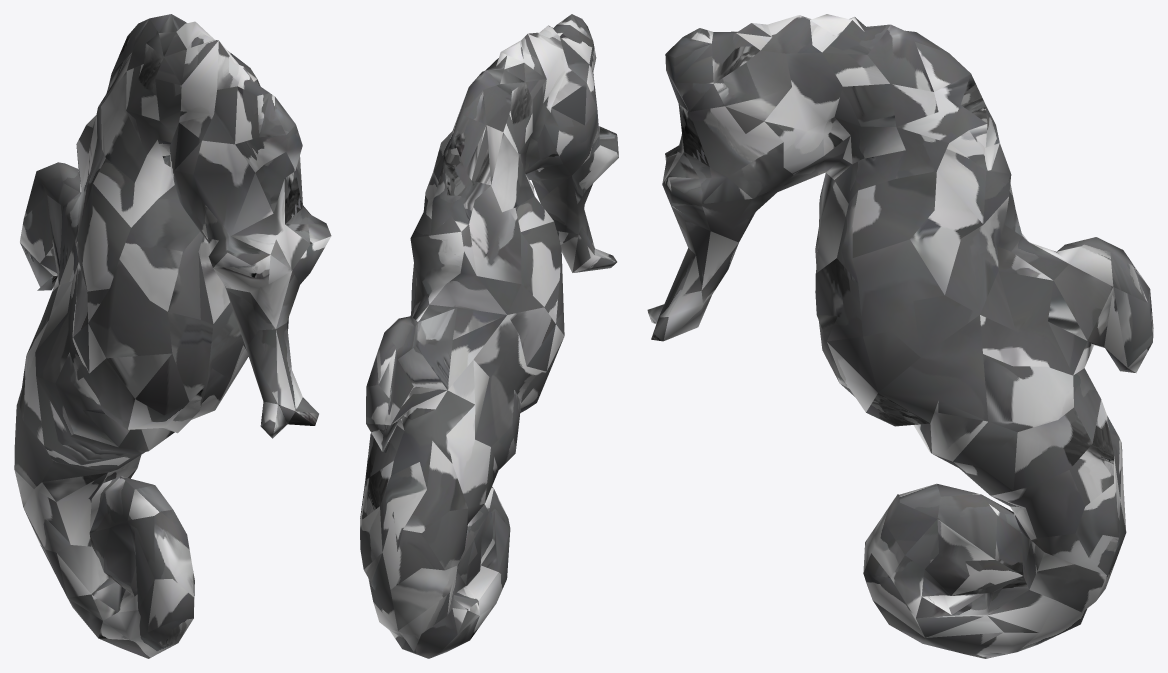
Rendered from caballitomar.fbx.
3 views of the same model, side by side, from view 1: azimuth 30°, elevation 25°; view 2: azimuth 150°, elevation 25°; view 3: azimuth 270°, elevation 25° (orthographic). The views are drawn at different scales.
Parts seen in each view (by area): view 1: caballito_de_mar_optimizado; view 2: caballito_de_mar_optimizado; view 3: caballito_de_mar_optimizado.
Part boxes in pixels (x1,y1,x2,y2): caballito_de_mar_optimizado: (14,14,331,658); caballito_de_mar_optimizado: (360,14,618,658); caballito_de_mar_optimizado: (647,14,1153,658).
Bounding box in the file's own units: 30.76 × 121 × 86.39.
